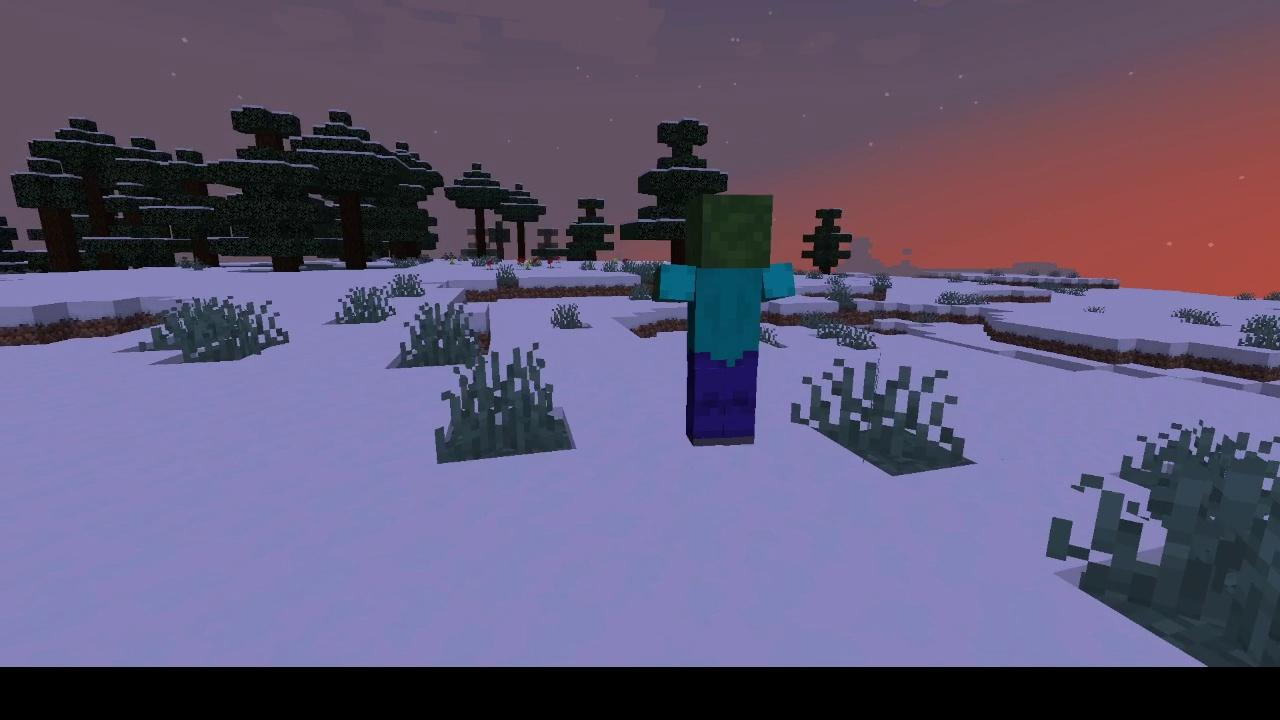zombie: (648, 188, 801, 451)
